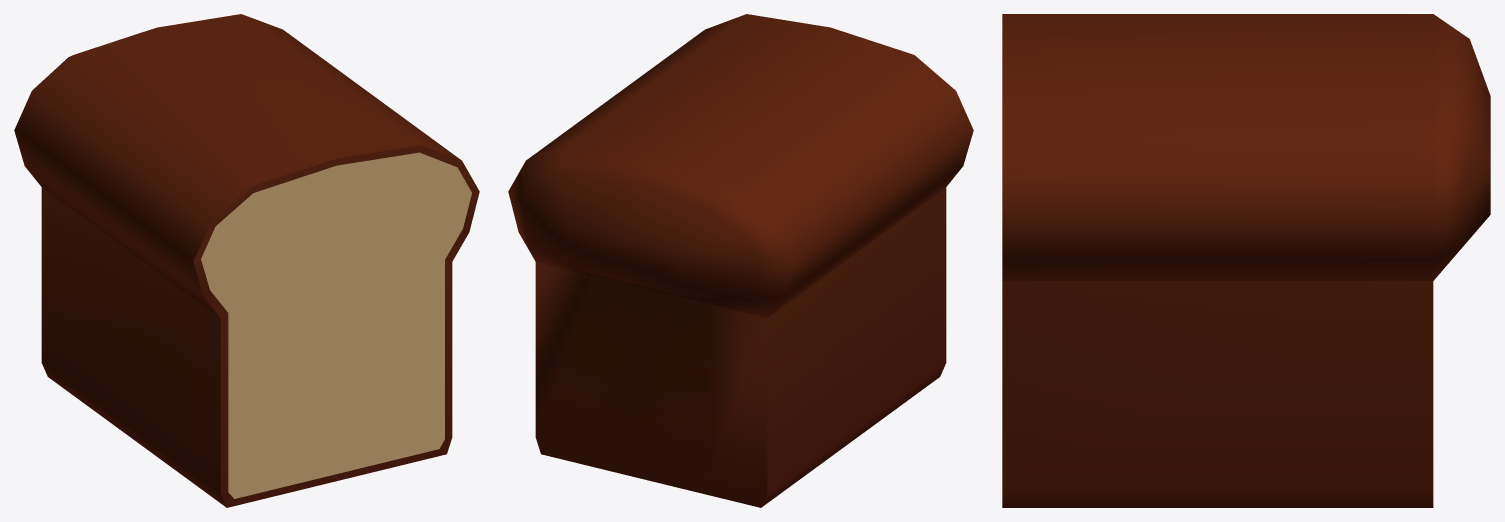
Rendered from BreadLoaf_Half.fbx.
3 views of the same model, side by side, from view 1: azimuth 30°, elevation 25°; view 2: azimuth 150°, elevation 25°; view 3: azimuth 270°, elevation 25° (orthographic). The views are drawn at different scales.
Parts seen in each view (by area): view 1: BreadLoaf_Half; view 2: BreadLoaf_Half; view 3: BreadLoaf_Half.
Part boxes in pixels (left/top/right/bottom): BreadLoaf_Half: left=14, top=14, right=479, bottom=507; BreadLoaf_Half: left=508, top=14, right=973, bottom=507; BreadLoaf_Half: left=1002, top=14, right=1490, bottom=507.
Size of the model in its own units: 42.97 by 46.25 by 52.74.
